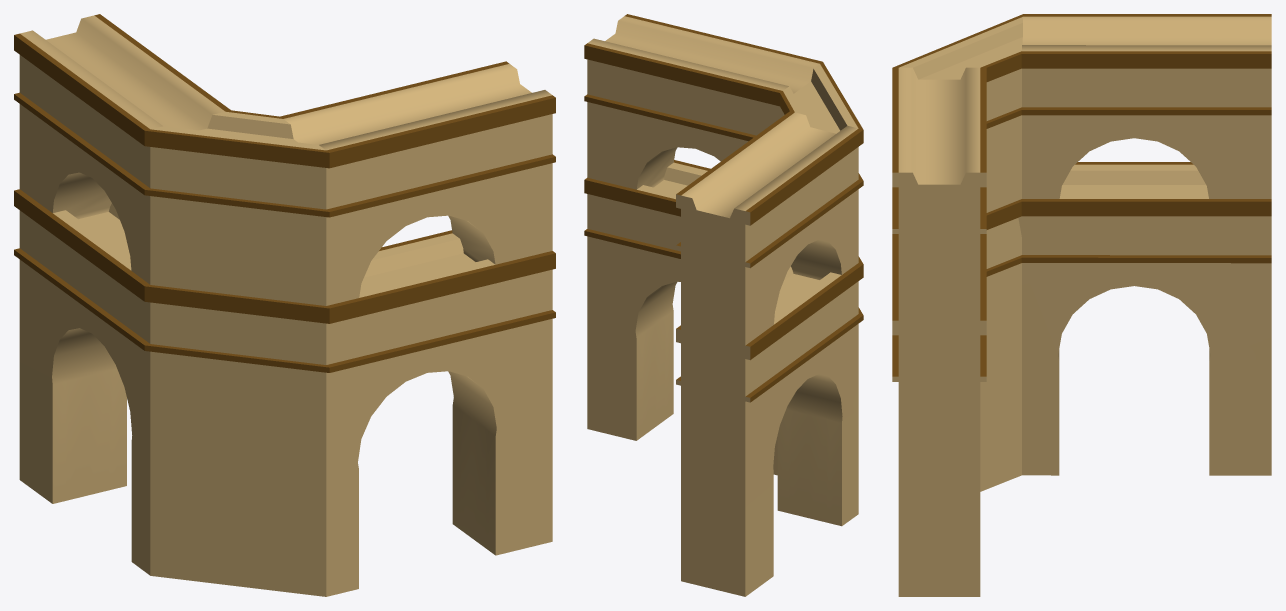
Rendered from hethoekstukaquaduct.fbx.
3 renders of one model, left to right at view 1: azimuth 30°, elevation 25°; view 2: azimuth 150°, elevation 25°; view 3: azimuth 270°, elevation 25°, orthographic. The views are drawn at different scales.
Parts seen in each view (by area): view 1: pCube9; view 2: pCube9; view 3: pCube9.
Boxes of the visible parts, bbox=[...] form: pCube9: bbox=[14, 14, 555, 596]; pCube9: bbox=[584, 14, 863, 596]; pCube9: bbox=[892, 14, 1271, 596].
Size of the model in its own units: 17.83 by 22.22 by 18.01.
